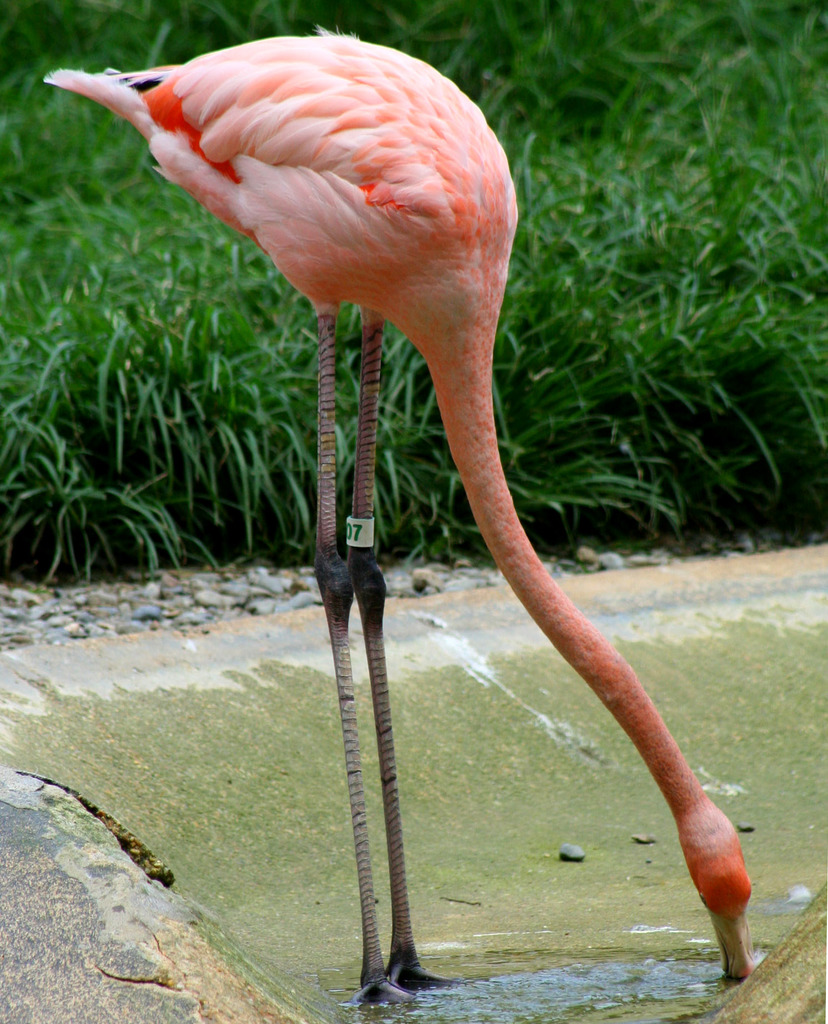Bird: (43, 22, 757, 1011)
